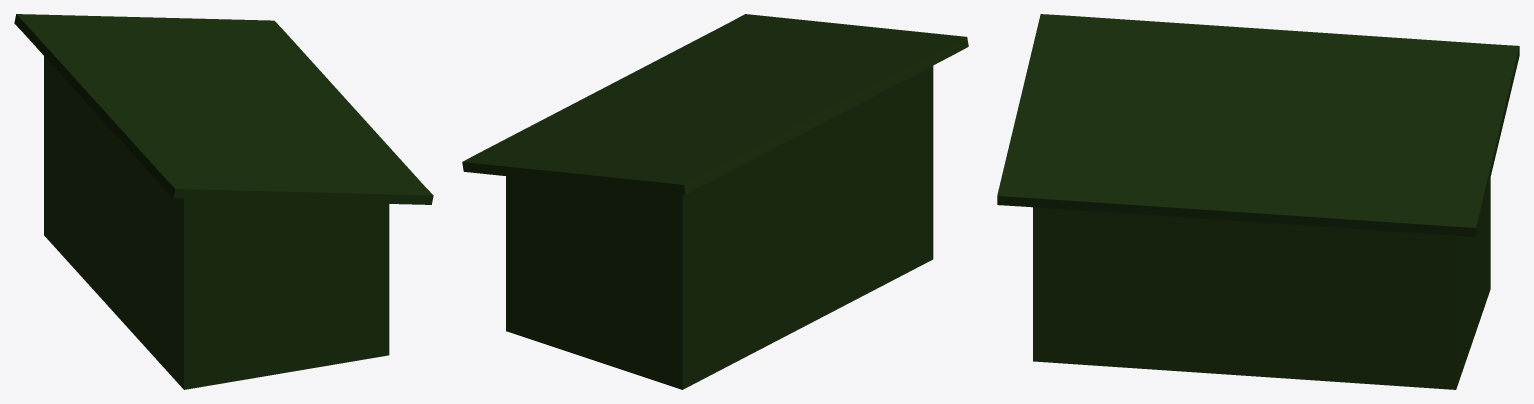
File: trash_container.fbx
3 views of the same model, side by side, from view 1: azimuth 30°, elevation 25°; view 2: azimuth 150°, elevation 25°; view 3: azimuth 270°, elevation 25° (orthographic). The views are drawn at different scales.
Visible parts, largest first — view 1: Trash Container; view 2: Trash Container; view 3: Trash Container.
Part boxes in pixels (x1=…): Trash Container: x1=14, y1=14, x2=433, y2=389; Trash Container: x1=462, y1=14, x2=968, y2=389; Trash Container: x1=997, y1=14, x2=1519, y2=389.
Bounding box in the file's own units: 561 × 384 × 774.
